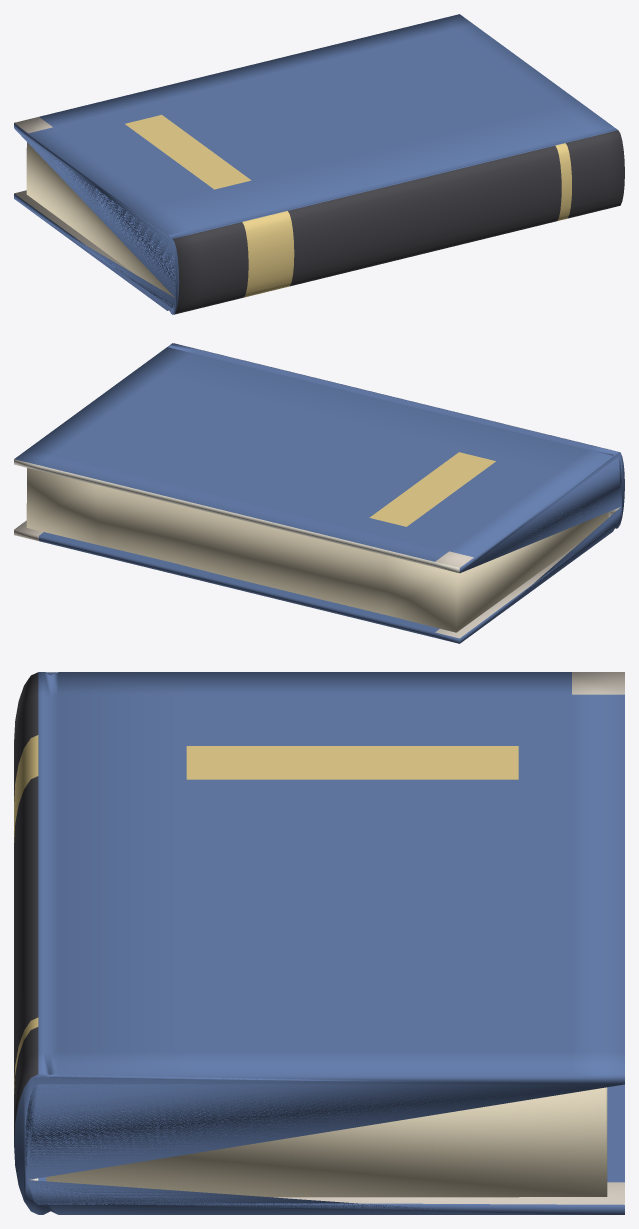
Rendered from paper_book_a.fbx.
The picture shows the model from 3 angles, top to bottom: view 1: azimuth 30°, elevation 25°; view 2: azimuth 150°, elevation 25°; view 3: azimuth 270°, elevation 25°; orthographic projection. The views are drawn at different scales.
Parts seen in each view (by area): view 1: paper_book_a; view 2: paper_book_a; view 3: paper_book_a.
Part boxes in pixels (left/top/right/bottom): paper_book_a: left=14, top=14, right=624, bottom=314; paper_book_a: left=14, top=343, right=624, bottom=643; paper_book_a: left=14, top=672, right=624, bottom=1214.
Bounding box in the file's own units: 0.215 × 0.035 × 0.138.
